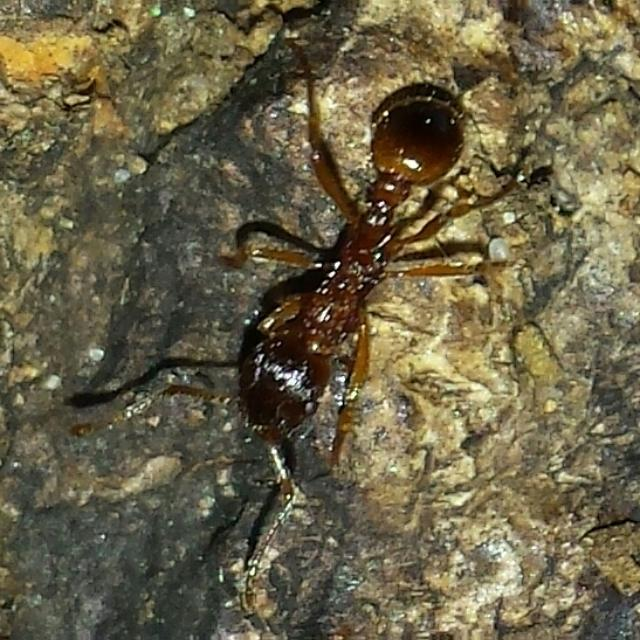Myrmica: (198, 45, 514, 481)
